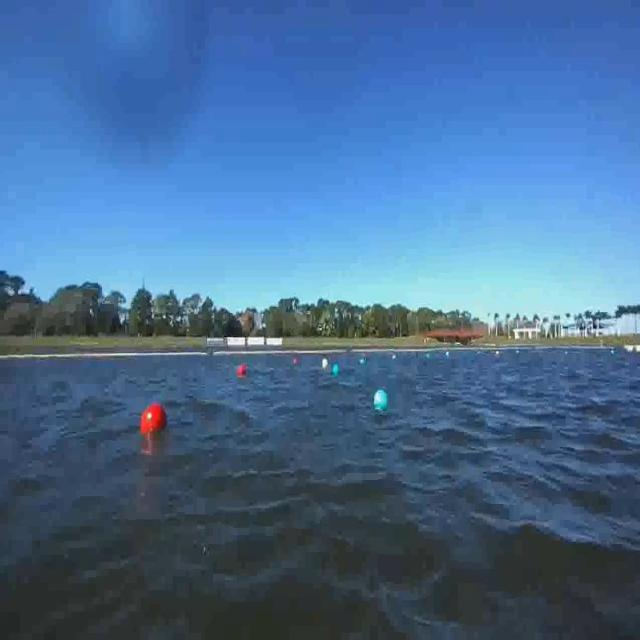green-buoy: (375, 388, 389, 409), (332, 362, 339, 377)
red-buoy: (140, 403, 168, 436), (238, 362, 248, 377), (292, 353, 300, 371)
yellow-buoy: (322, 358, 328, 369)
